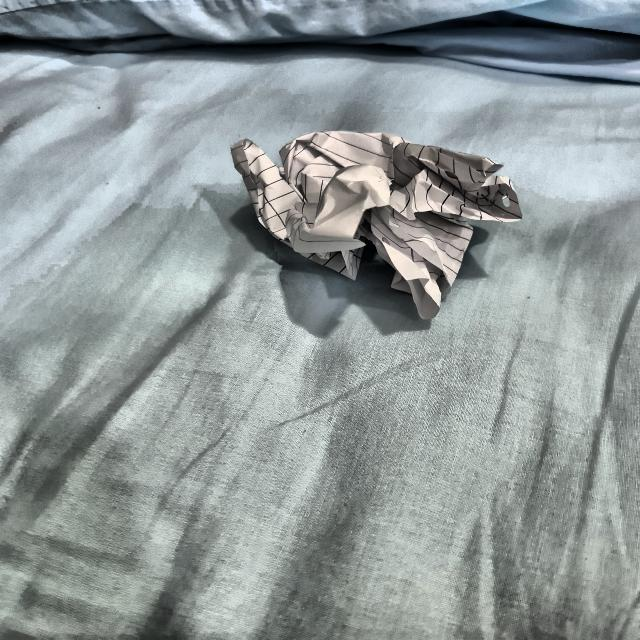Paper: (220, 130, 509, 318)
